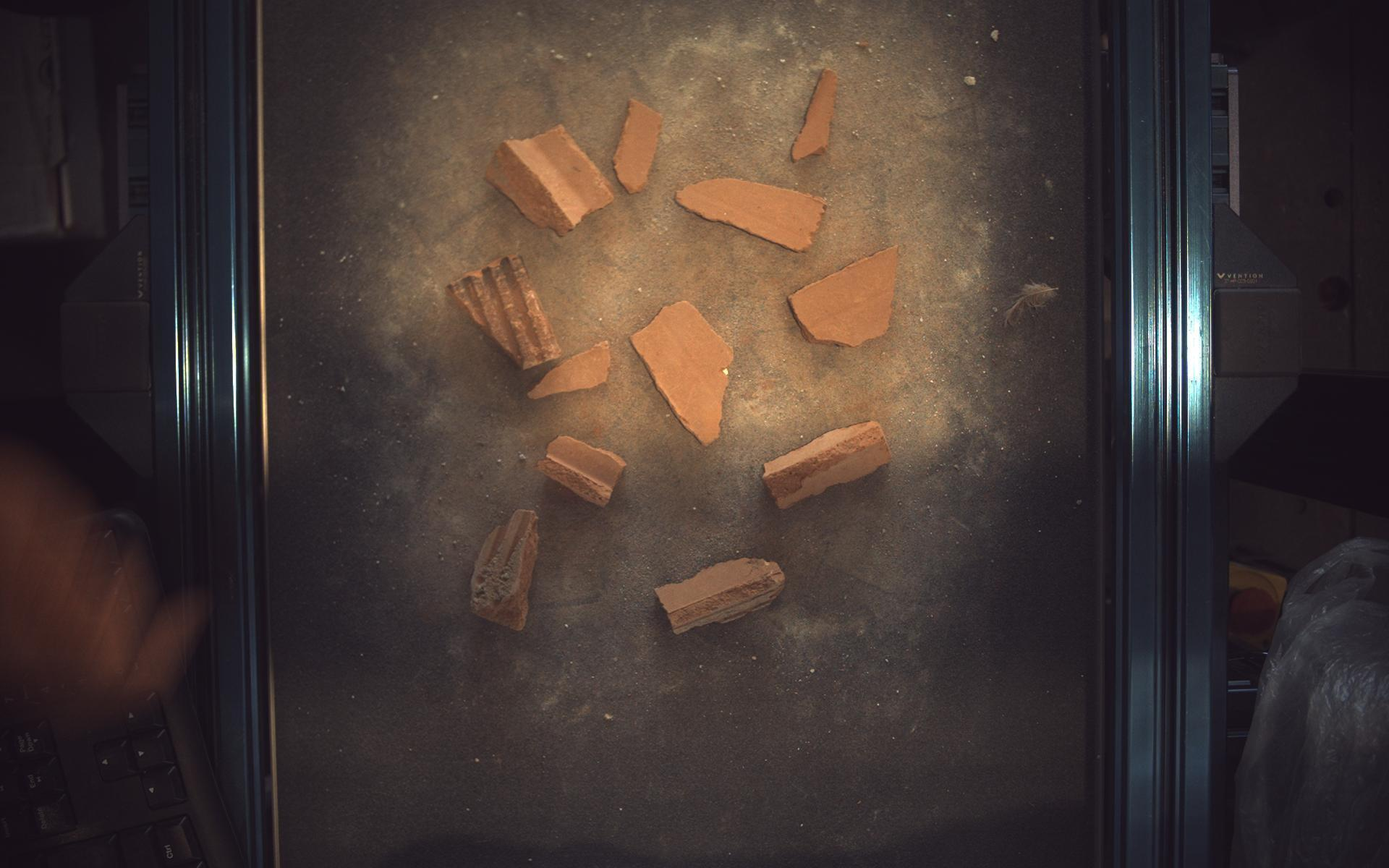brick: (632, 300, 735, 445), (486, 124, 614, 235), (447, 255, 562, 369), (765, 421, 893, 509), (789, 246, 900, 346), (676, 177, 828, 250), (657, 558, 785, 634), (471, 509, 539, 631), (538, 436, 627, 507), (528, 341, 611, 399), (614, 98, 663, 192), (794, 67, 839, 160)
